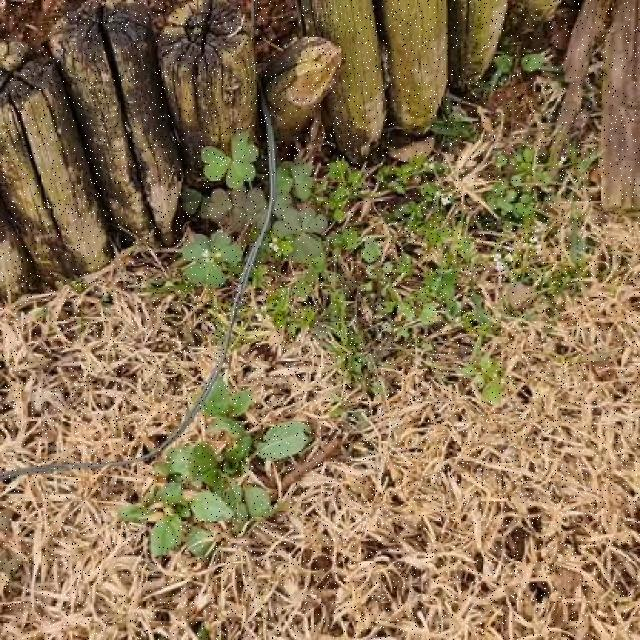weed: (118, 378, 311, 559), (182, 135, 269, 230), (269, 160, 329, 272), (182, 229, 243, 288)
